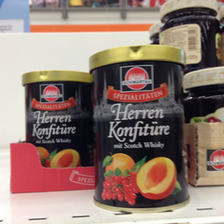jam: (90, 45, 191, 212), (21, 70, 93, 167)
